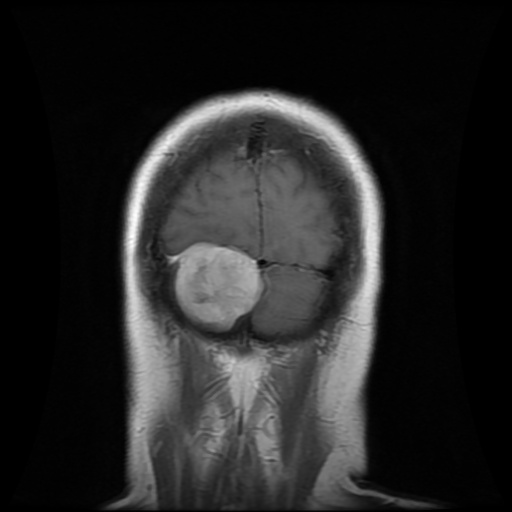meningioma: (163, 241, 266, 332)
